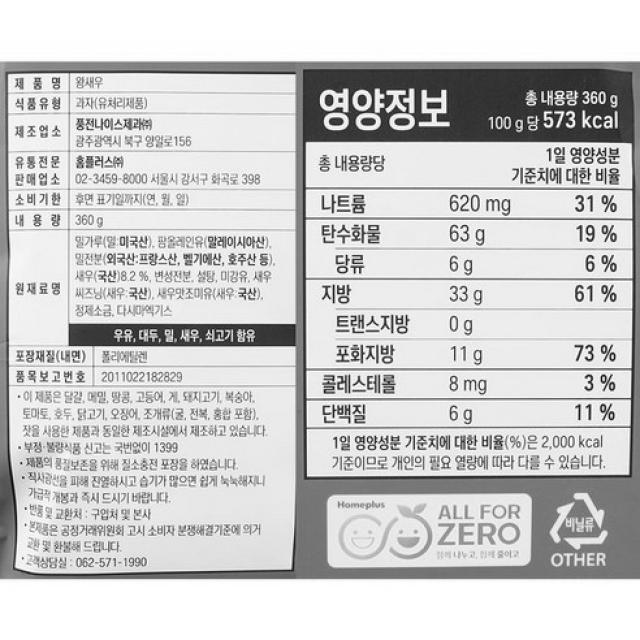Nutrition Label: (297, 60, 640, 483)
